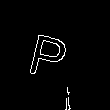P_N: (31, 22, 77, 80)
